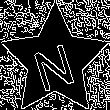N_N: (29, 30, 81, 91)
